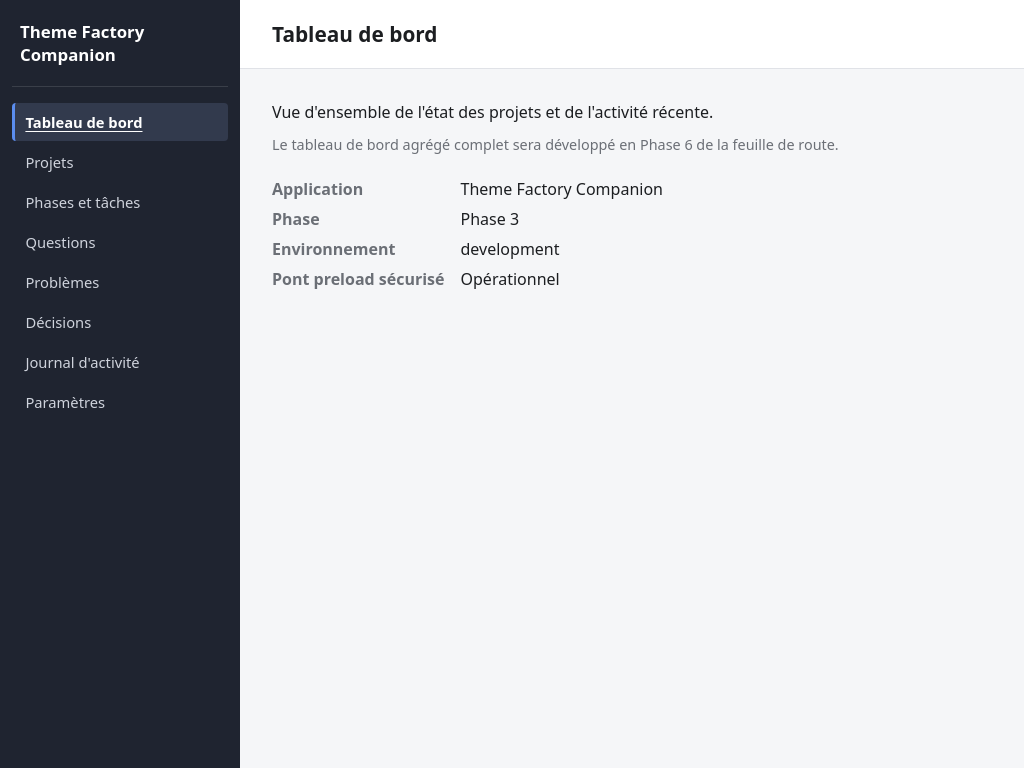
Scenario: App — câblage réel du projet actif entre ProjectsPage et PhasesPage › sélectionne le projet A, navigue vers Phases, puis change pour B et charge les bonnes phases sans fuite
The width and height of the screenshot is (1024, 768).
Click the button "Projets": (120, 162) [12,143,228,181]
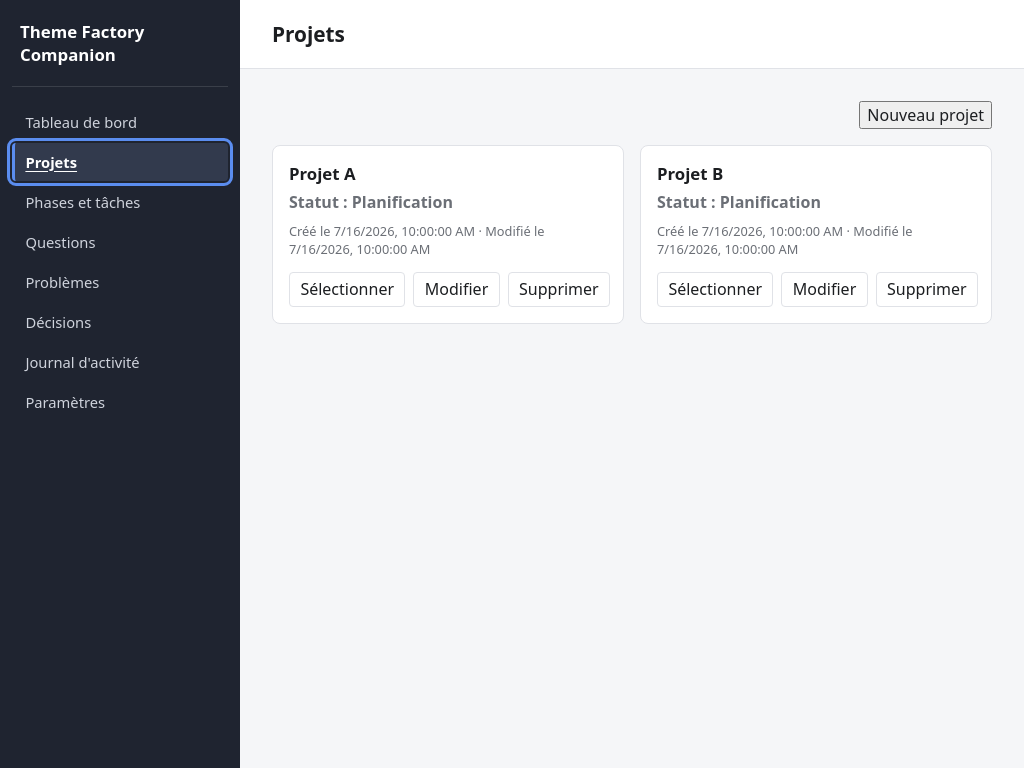
Check: the heading "Projet A" is shown, box [289,162,356,185]
Check: the heading "Projet B" is shown, box [657,162,723,185]
Click the button "Sélectionner" below "Projet A": (347, 289) [289,272,405,307]
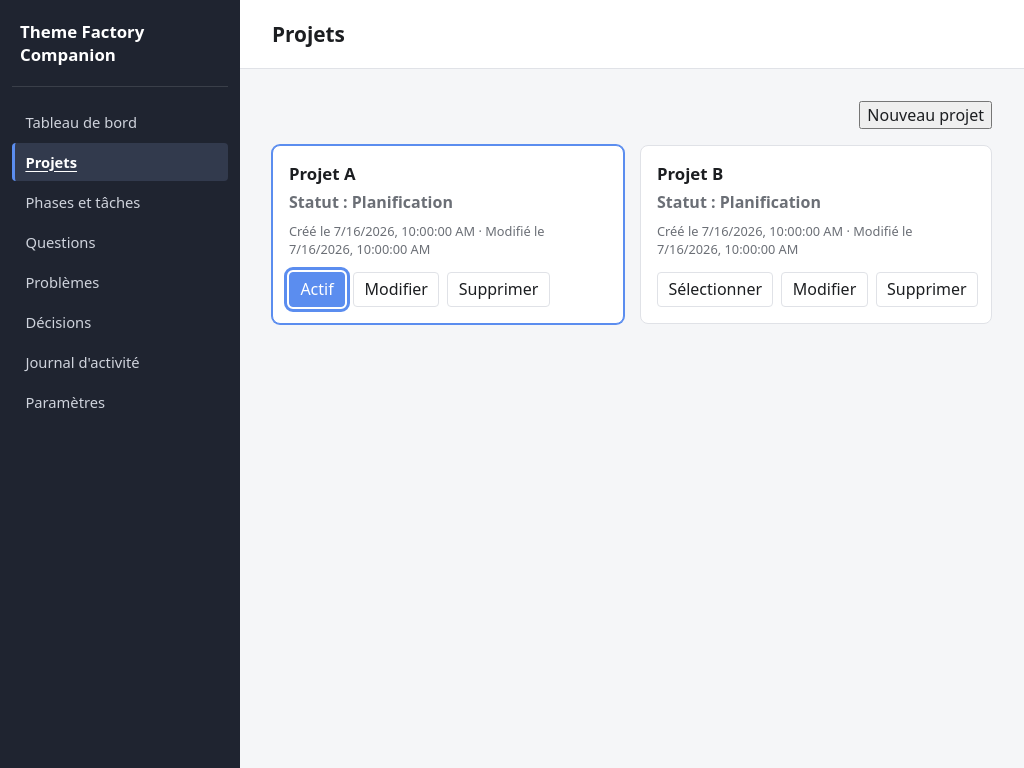
Check: the button "Actif" is shown, box [289,272,345,307]
Click the button "Phases et tâches": (120, 202) [12,183,228,221]
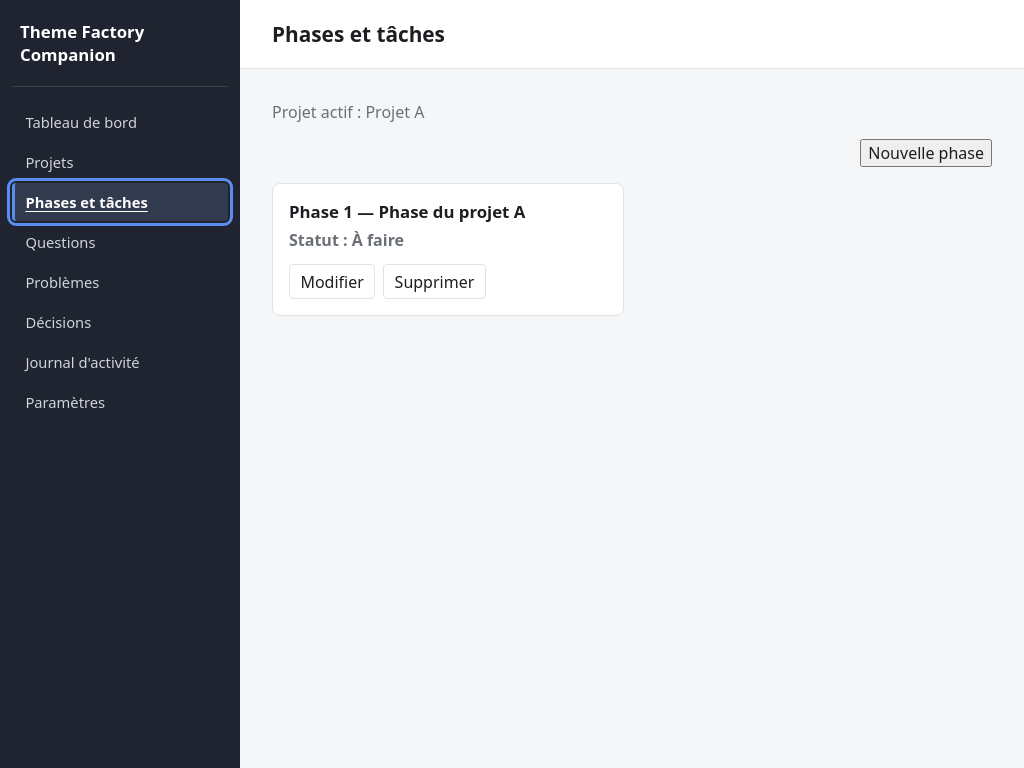
Check: the text "Projet actif : Projet A" is shown, box [272,101,424,123]
Check: the heading "Phase 1 — Phase du projet A" is shown, box [289,200,525,223]
Click the button "Projets": (120, 162) [12,143,228,181]
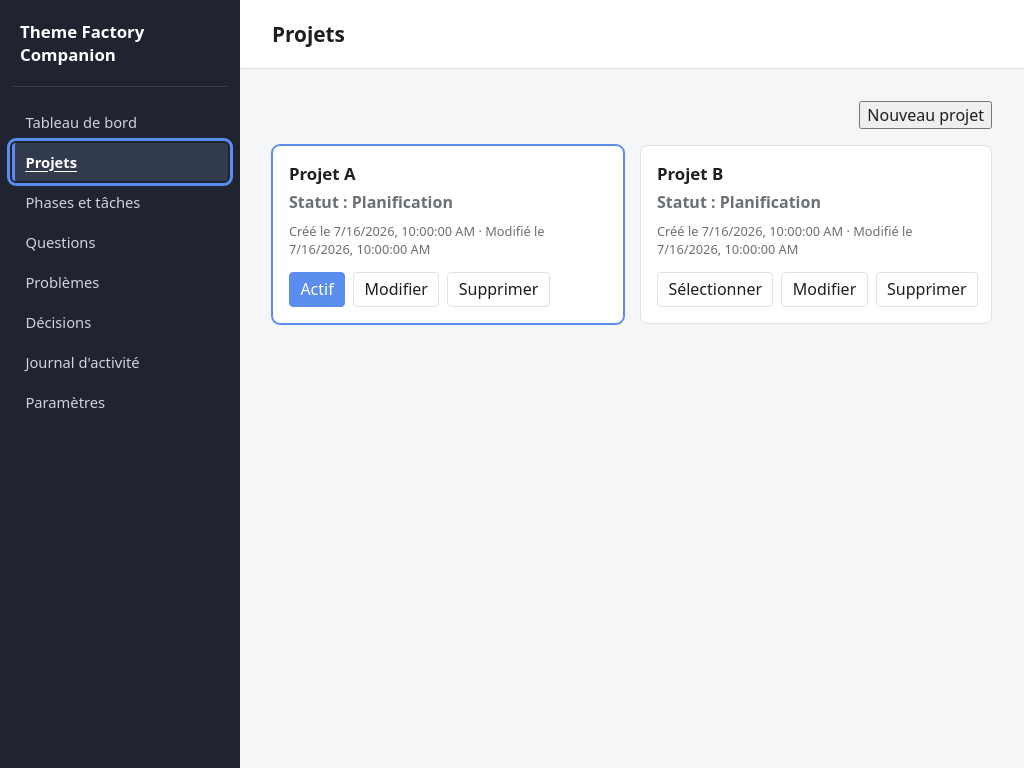
Click the button "Sélectionner": (715, 289) [657,272,773,307]
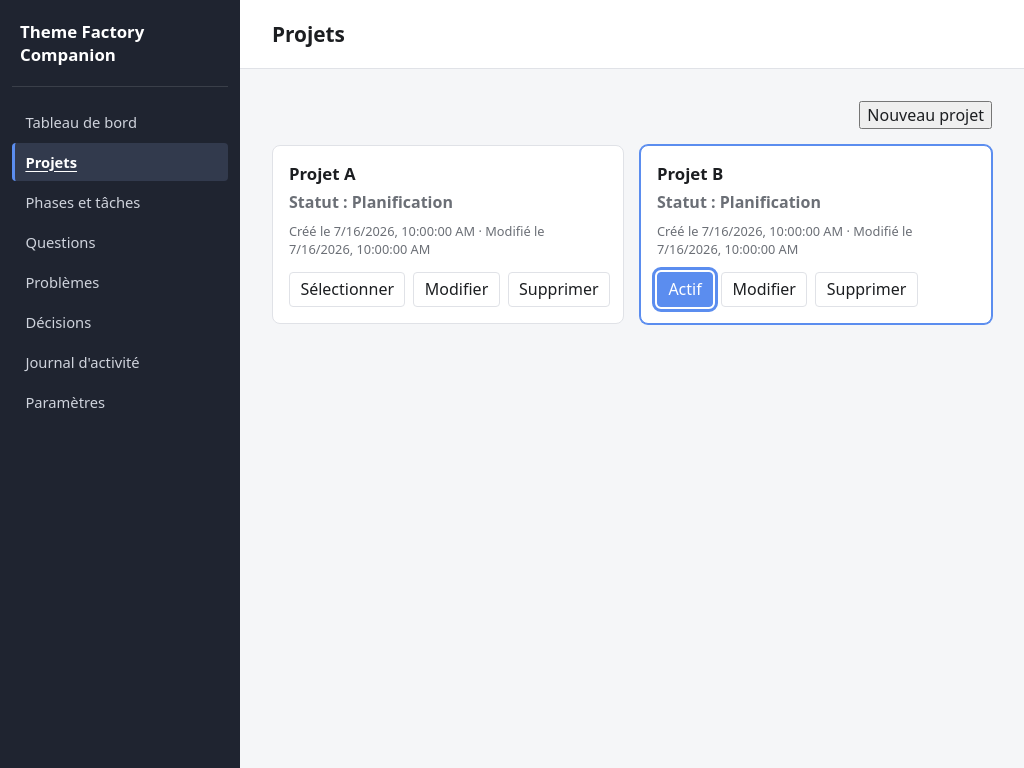
Check: the button "Actif" is shown, box [657,272,713,307]
Click the button "Phases et tâches": (120, 202) [12,183,228,221]
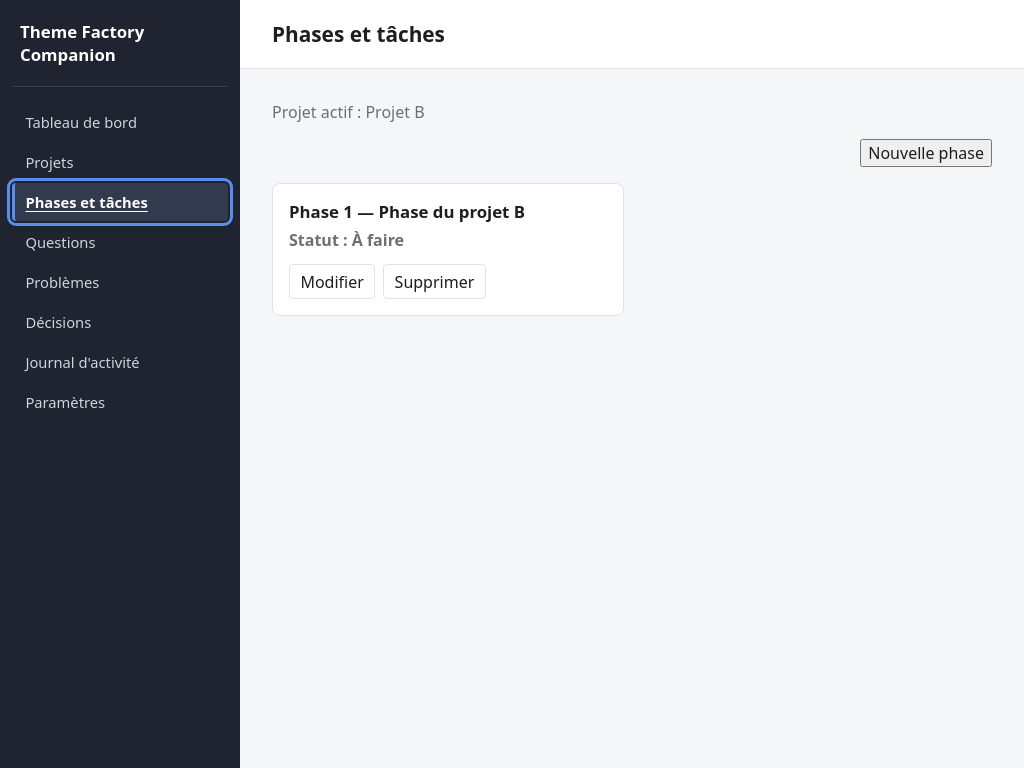
Check: the heading "Phase du projet A" is not shown
Check: the text "Projet actif : Projet B" is shown, box [272,101,425,123]
Check: the heading "Phase 1 — Phase du projet B" is shown, box [289,200,525,223]
